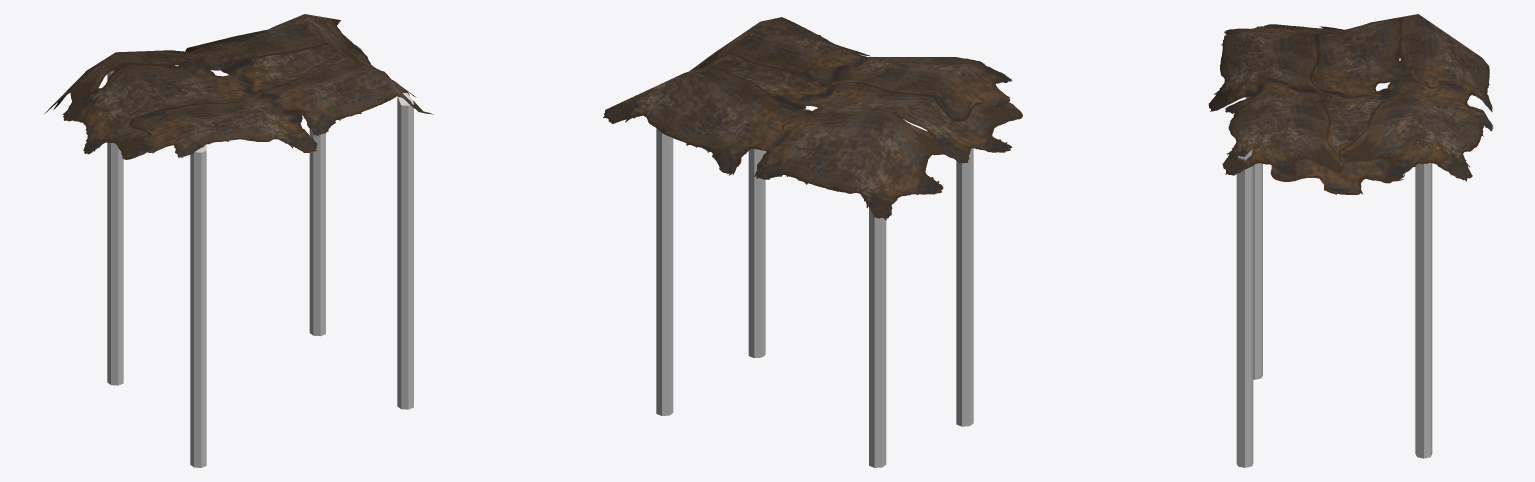
The model's file is Shelter.fbx.
3 views of the same model, side by side, from view 1: azimuth 30°, elevation 25°; view 2: azimuth 150°, elevation 25°; view 3: azimuth 270°, elevation 25° (orthographic). The views are drawn at different scales.
Visible parts, largest first — view 1: pPlane1, polySurface1; view 2: pPlane1, polySurface1; view 3: pPlane1, polySurface1.
Boxes of the visible parts, x1,y1,x2,y2 form: pPlane1: [44, 14, 433, 159]; polySurface1: [107, 25, 413, 467]; pPlane1: [603, 17, 1022, 220]; polySurface1: [656, 128, 973, 467]; pPlane1: [1208, 14, 1493, 194]; polySurface1: [1236, 96, 1432, 467].
Size of the model in its own units: 17.45 by 15.7 by 14.68.
